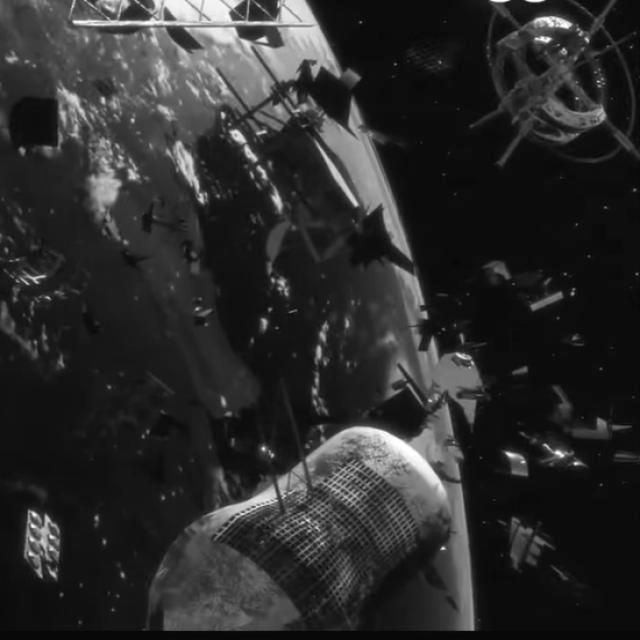large_debris: (132, 407, 457, 640), (184, 52, 425, 301), (463, 2, 637, 178), (500, 379, 640, 491), (61, 2, 323, 39), (474, 240, 590, 317), (417, 325, 497, 429), (15, 490, 87, 595), (0, 80, 84, 167), (490, 506, 560, 582)
